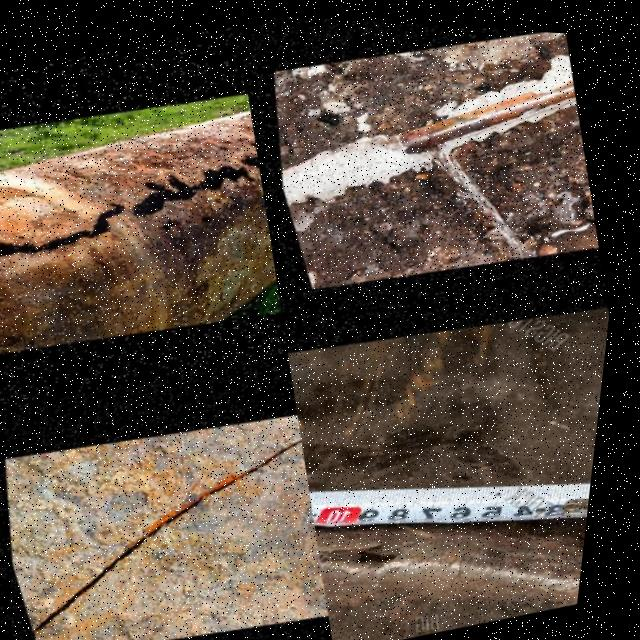crack: (40, 431, 314, 640)
hole: (29, 184, 143, 269), (112, 154, 213, 234), (337, 522, 417, 581), (187, 149, 264, 208), (1, 222, 41, 295), (235, 148, 265, 174), (156, 212, 185, 235), (195, 206, 222, 225), (242, 132, 262, 155), (215, 138, 237, 154), (254, 144, 266, 173), (236, 132, 250, 144), (222, 133, 235, 145)
rupture: (413, 131, 443, 147)
